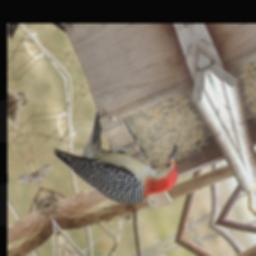Woodpecker: (52, 91, 193, 231)
